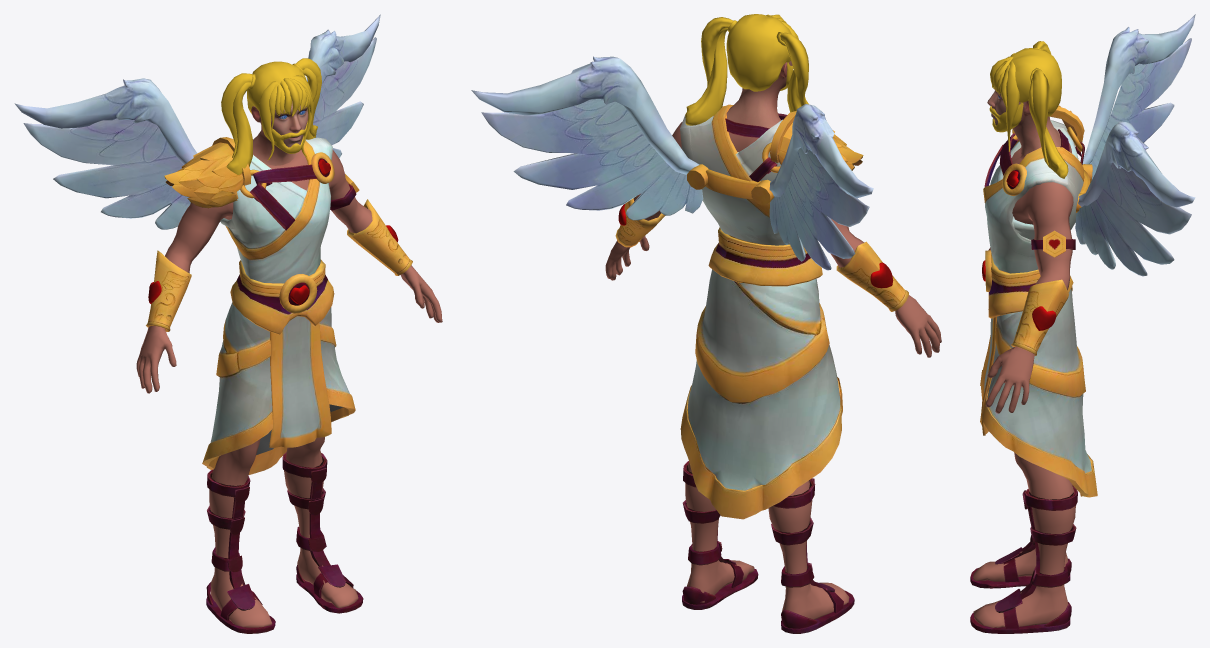
The model's file is zezacharacter.glb.
3 renders of one model, left to right at view 1: azimuth 30°, elevation 25°; view 2: azimuth 150°, elevation 25°; view 3: azimuth 270°, elevation 25°, orthographic. The views are drawn at different scales.
Parts seen in each view (by area): view 1: Wolf3D_Outfit_Top, Wolf3D_Outfit_Bottom, Wolf3D_Body, Wolf3D_Outfit_Footwear, Wolf3D_Hair, Wolf3D_Head; view 2: Wolf3D_Outfit_Top, Wolf3D_Outfit_Bottom, Wolf3D_Body, Wolf3D_Hair, Wolf3D_Outfit_Footwear, Wolf3D_Head; view 3: Wolf3D_Outfit_Top, Wolf3D_Outfit_Bottom, Wolf3D_Body, Wolf3D_Hair, Wolf3D_Outfit_Footwear, Wolf3D_Head, Wolf3D_Beard.
Boxes of the visible parts, left/top/right/bottom form: Wolf3D_Outfit_Top: left=14, top=14, right=380, bottom=283; Wolf3D_Outfit_Bottom: left=146, top=152, right=412, bottom=474; Wolf3D_Body: left=136, top=149, right=442, bottom=627; Wolf3D_Outfit_Footwear: left=206, top=452, right=363, bottom=633; Wolf3D_Hair: left=221, top=58, right=321, bottom=174; Wolf3D_Head: left=251, top=101, right=308, bottom=165; Wolf3D_Outfit_Top: left=471, top=56, right=873, bottom=270; Wolf3D_Outfit_Bottom: left=615, top=106, right=908, bottom=519; Wolf3D_Body: left=605, top=122, right=941, bottom=619; Wolf3D_Hair: left=685, top=14, right=808, bottom=125; Wolf3D_Outfit_Footwear: left=682, top=461, right=854, bottom=633; Wolf3D_Head: left=726, top=61, right=792, bottom=128; Wolf3D_Outfit_Top: left=983, top=14, right=1195, bottom=276; Wolf3D_Outfit_Bottom: left=980, top=163, right=1097, bottom=497; Wolf3D_Body: left=973, top=143, right=1075, bottom=627; Wolf3D_Hair: left=990, top=41, right=1068, bottom=178; Wolf3D_Outfit_Footwear: left=970, top=485, right=1077, bottom=633; Wolf3D_Head: left=987, top=88, right=1060, bottom=155; Wolf3D_Beard: left=989, top=102, right=1023, bottom=132.
Bounding box in the file's own units: 1.32 × 1.84 × 0.683.
9 materials, 9 textured.
